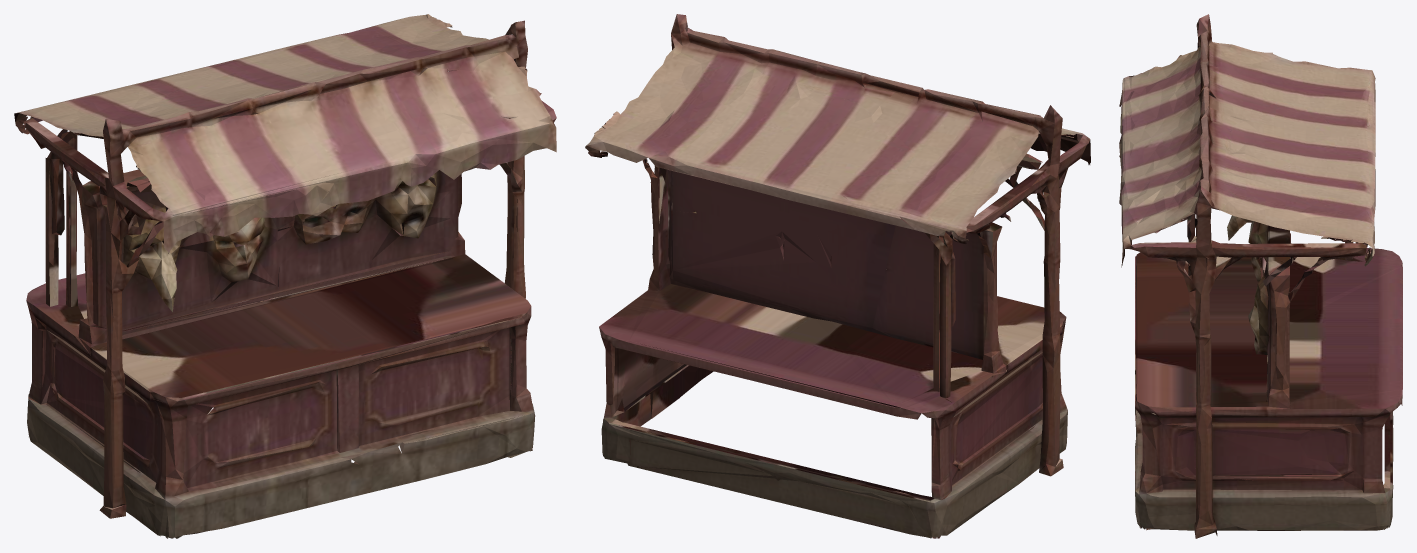
The model's file is park_mask_stall_1117.glb.
3 views of the same model, side by side, from view 1: azimuth 30°, elevation 25°; view 2: azimuth 150°, elevation 25°; view 3: azimuth 270°, elevation 25° (orthographic). The views are drawn at different scales.
Visible parts, largest first — view 1: world; view 2: world; view 3: world.
Part boxes in pixels (x1,y1,x2,y2): world: (14, 14, 556, 538); world: (585, 14, 1090, 538); world: (1119, 14, 1402, 538).
Size of the model in its own units: 1.1 by 1 by 0.7347.
Materials: 1 (1 with a texture image).
